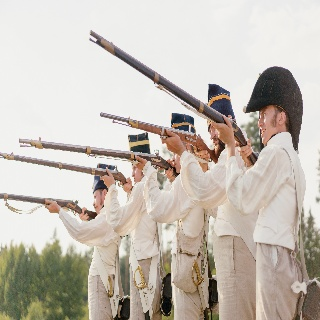rifle: (86, 26, 262, 167), (17, 136, 180, 180), (97, 110, 221, 165), (1, 148, 132, 187), (1, 190, 98, 222)
